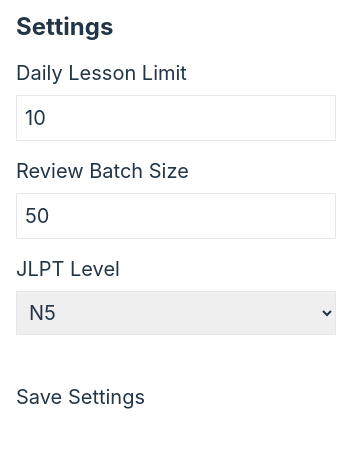
it: SettingsPage › shows validation error when dailyLessonLimit exceeds maximum
The image size is (353, 458).
Replace the text in the number field labelled "Daily Lesson Limit" with "99" at (176,118), box x1=16 y1=95 x2=336 y2=141
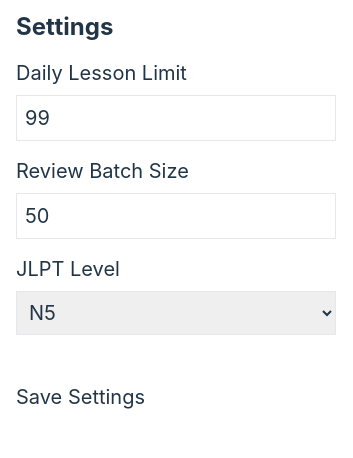
Click the button "Save Settings" at (80,397), box x1=16 y1=383 x2=145 y2=411
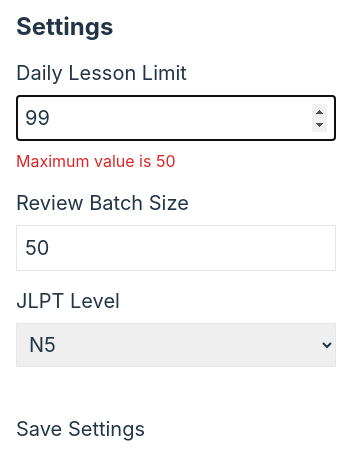
Check: the text "Maximum value is 50" is shown, box x1=16 y1=151 x2=176 y2=171
